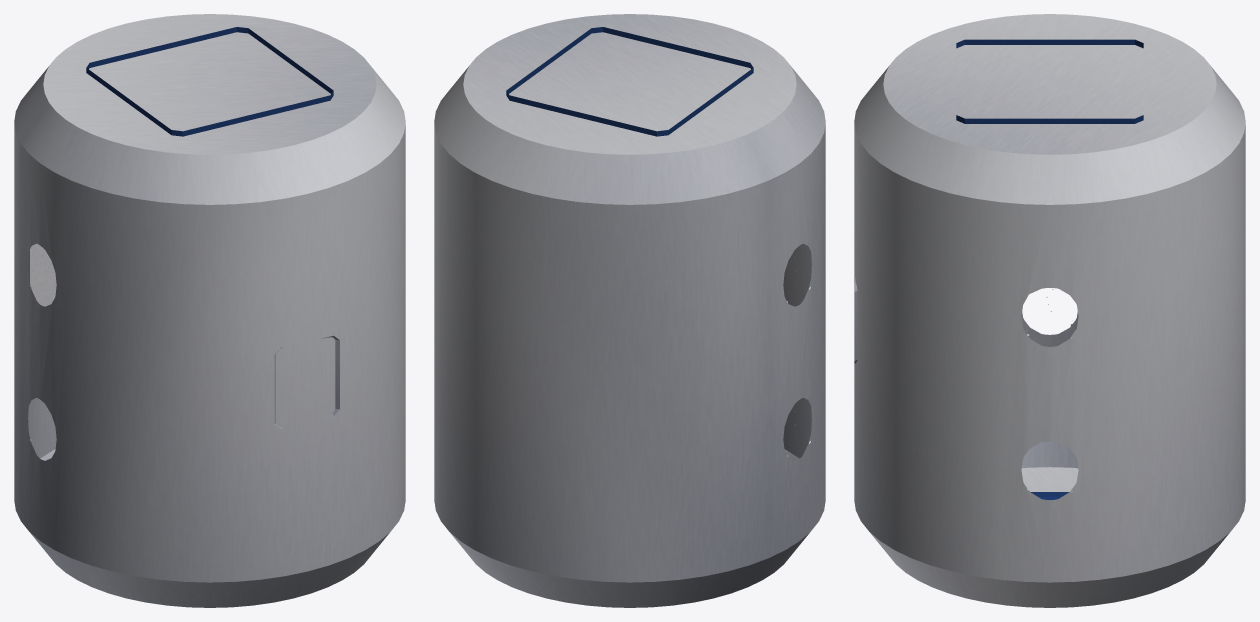
Rendered from MPL_Internal.fbx.
The picture shows the model from 3 angles, left to right: view 1: azimuth 30°, elevation 25°; view 2: azimuth 150°, elevation 25°; view 3: azimuth 270°, elevation 25°; orthographic projection.
Parts seen in each view (by area): view 1: MPL600:Internal, MPL600I:HatchUp, MPL600I:MSG, MPL600I:Airlock; view 2: MPL600:Internal, MPL600I:HatchUp; view 3: MPL600:Internal, MPL600I:HatchUp.
Boxes of the visible parts, box(x1,y1,x2,y2) form: MPL600:Internal: box(14, 14, 405, 607); MPL600I:HatchUp: box(86, 27, 333, 136); MPL600I:MSG: box(28, 243, 56, 306); MPL600I:Airlock: box(274, 335, 339, 428); MPL600:Internal: box(434, 14, 825, 607); MPL600I:HatchUp: box(506, 27, 753, 136); MPL600:Internal: box(854, 14, 1245, 607); MPL600I:HatchUp: box(956, 39, 1143, 123).
Bounding box in the file's own units: 2.9 × 3.76 × 2.88.
